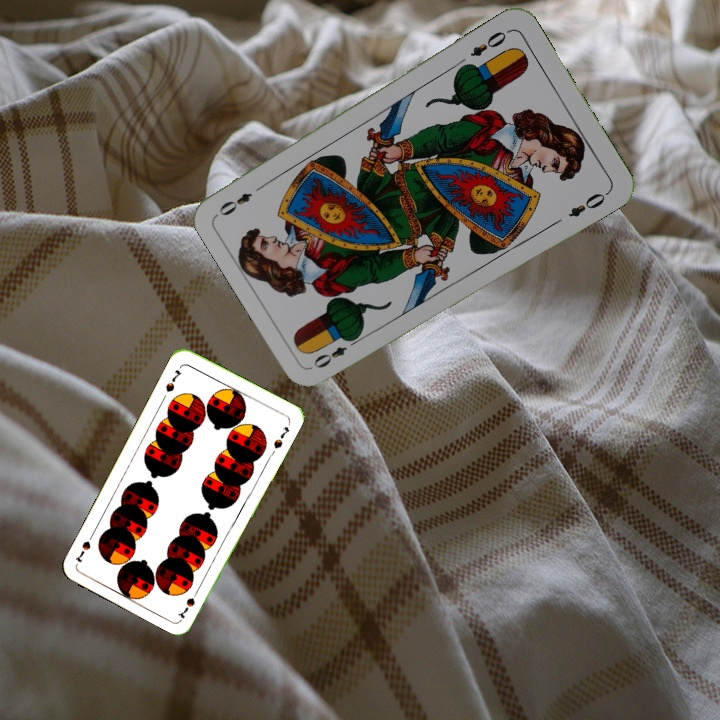EO: (309, 332, 362, 371), (466, 25, 513, 60)
S7: (175, 584, 202, 621), (161, 365, 184, 395)
